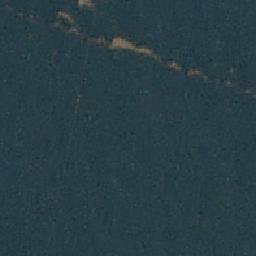debris: (91, 34, 158, 57), (167, 59, 203, 79), (55, 9, 80, 35), (77, 1, 98, 14)
